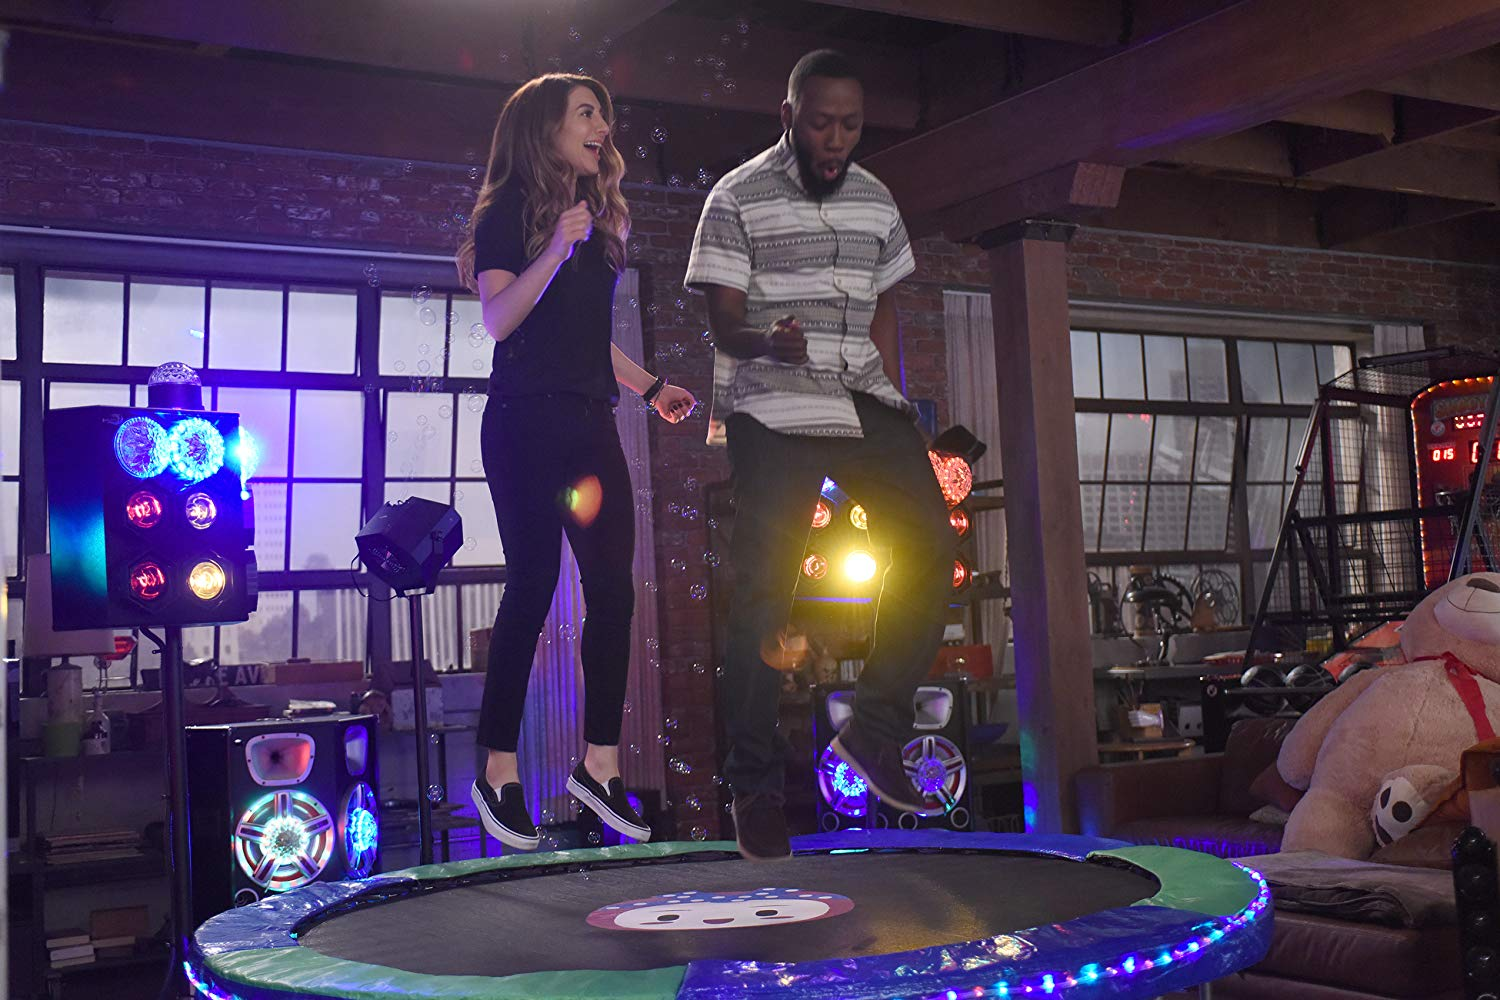person: (687, 39, 965, 869), (465, 67, 650, 848)
